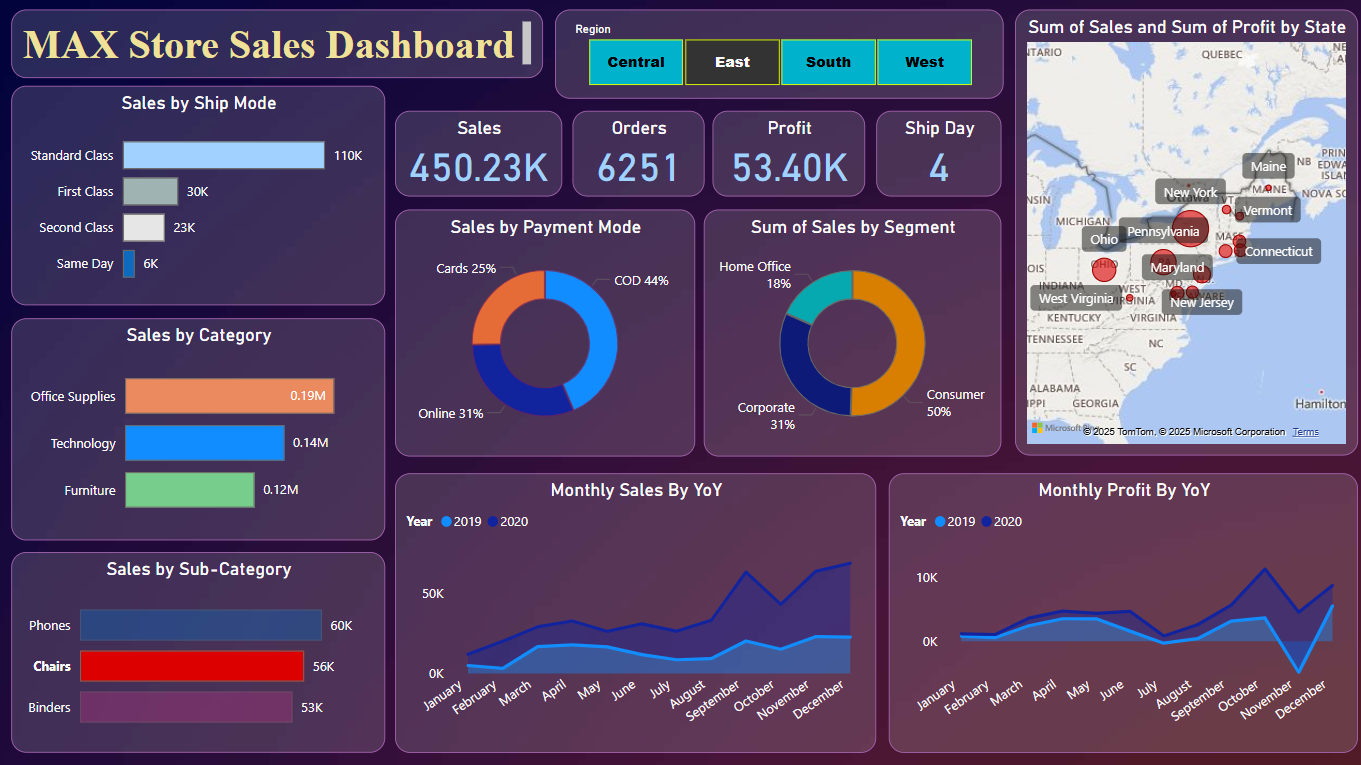

The dashboard page shown, as its layout file describes it:
{"tool":"powerbi","page":{"name":"Sales_Dashboard","canvas":[1280,720],"ordinal":0},"visuals":[{"type":"clusteredBarChart","title":"Sales by Category","fields":{"Category":["SuperStore_Sales_Dataset.Category"],"Y":["Sum(SuperStore_Sales_Dataset.Sales)"]},"box":[15.7,299.2,348.7,207.5],"z":0},{"type":"clusteredBarChart","title":"Sales by Sub-Category","fields":{"Category":["SuperStore_Sales_Dataset.Sub-Category"],"Y":["Sum(SuperStore_Sales_Dataset.Sales)"]},"box":[15.7,517.6,348.7,187],"z":1000},{"type":"clusteredBarChart","title":"Sales by Ship Mode","fields":{"Category":["SuperStore_Sales_Dataset.Ship Mode"],"Y":["Sum(SuperStore_Sales_Dataset.Sales)"]},"box":[15.7,83.2,348.7,205.1],"z":2000},{"type":"stackedAreaChart","title":" Monthly Sales By YoY","fields":{"Y":["Sum(SuperStore_Sales_Dataset.Sales)"],"Category":["SuperStore_Sales_Dataset.Order Date.Variation.Date Hierarchy.Month","SuperStore_Sales_Dataset.Order Date.Variation.Date Hierarchy.Day"],"Series":["SuperStore_Sales_Dataset.Order Date.Variation.Date Hierarchy.Year"]},"box":[372.8,444,448.8,260.6],"z":3000},{"type":"stackedAreaChart","title":" Monthly Profit By YoY","fields":{"Category":["SuperStore_Sales_Dataset.Order Date.Variation.Date Hierarchy.Month","SuperStore_Sales_Dataset.Order Date.Variation.Date Hierarchy.Day"],"Series":["SuperStore_Sales_Dataset.Order Date.Variation.Date Hierarchy.Year"],"Y":["Sum(SuperStore_Sales_Dataset.Profit)"]},"box":[833.7,444,437.9,260.6],"z":4000},{"type":"donutChart","fields":{"Category":["SuperStore_Sales_Dataset.Segment"],"Y":["Sum(SuperStore_Sales_Dataset.Sales)"]},"box":[661.1,197.9,277.5,230.4],"z":5000},{"type":"donutChart","title":" Sales by Payment Mode","fields":{"Category":["SuperStore_Sales_Dataset.Payment Mode"],"Y":["Sum(SuperStore_Sales_Dataset.Sales)"]},"box":[372.8,197.9,279.9,230.4],"z":6000},{"type":"slicer","fields":{"Values":["SuperStore_Sales_Dataset.Region"]},"box":[522.4,12.1,418.6,83.2],"z":7000},{"type":"textbox","box":[15.7,12.1,495.8,63.9],"z":8000},{"type":"card","title":"Sales","fields":{"Values":["Sum(SuperStore_Sales_Dataset.Sales)"]},"box":[372.8,106.2,155.6,79.6],"z":9000},{"type":"card","title":"Ship Day ","fields":{"Values":["Avg(SuperStore_Sales_Dataset.AVGDelivery)"]},"box":[821.6,106.2,117,79.6],"z":10000},{"type":"card","title":"Profit","fields":{"Values":["Sum(SuperStore_Sales_Dataset.Profit)"]},"box":[669.6,106.2,142.4,79.6],"z":11000},{"type":"card","title":"Orders","fields":{"Values":["Sum(SuperStore_Sales_Dataset.Quantity)"]},"box":[538.1,106.2,123.1,79.6],"z":12000},{"type":"map","fields":{"Category":["SuperStore_Sales_Dataset.State"],"Size":["Sum(SuperStore_Sales_Dataset.Sales)"]},"box":[951.9,12.1,319.7,416.2],"z":13000}]}

Visuals, with their boxes in screenshot pixels (x1, y1, x2, y2), scaled from the page's 1280x720 canvas onto the 1361x765 screenshot:
"Sales by Category" clusteredBarChart: [x1=17, y1=318, x2=387, y2=538]
"Sales by Sub-Category" clusteredBarChart: [x1=17, y1=550, x2=387, y2=749]
"Sales by Ship Mode" clusteredBarChart: [x1=17, y1=88, x2=387, y2=306]
" Monthly Sales By YoY" stackedAreaChart: [x1=396, y1=472, x2=874, y2=749]
" Monthly Profit By YoY" stackedAreaChart: [x1=886, y1=472, x2=1352, y2=749]
donutChart - SuperStore_Sales_Dataset.Segment x Sum(SuperStore_Sales_Dataset.Sales): [x1=703, y1=210, x2=998, y2=455]
" Sales by Payment Mode" donutChart: [x1=396, y1=210, x2=694, y2=455]
slicer - SuperStore_Sales_Dataset.Region: [x1=555, y1=13, x2=1001, y2=101]
textbox: [x1=17, y1=13, x2=544, y2=81]
"Sales" card: [x1=396, y1=113, x2=562, y2=197]
"Ship Day " card: [x1=874, y1=113, x2=998, y2=197]
"Profit" card: [x1=712, y1=113, x2=863, y2=197]
"Orders" card: [x1=572, y1=113, x2=703, y2=197]
map - SuperStore_Sales_Dataset.State x Sum(SuperStore_Sales_Dataset.Sales): [x1=1012, y1=13, x2=1352, y2=455]
